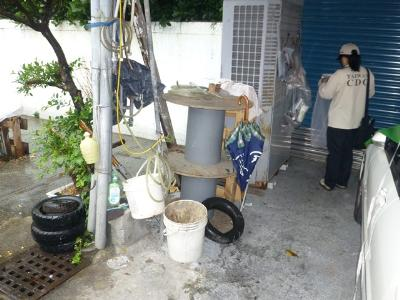bottle: (78, 128, 101, 166), (107, 172, 122, 207)
bucket: (161, 200, 208, 264), (121, 172, 167, 221)
plastic_bag: (114, 57, 169, 110)
tire: (28, 194, 87, 231), (202, 197, 246, 245), (29, 221, 88, 245)
